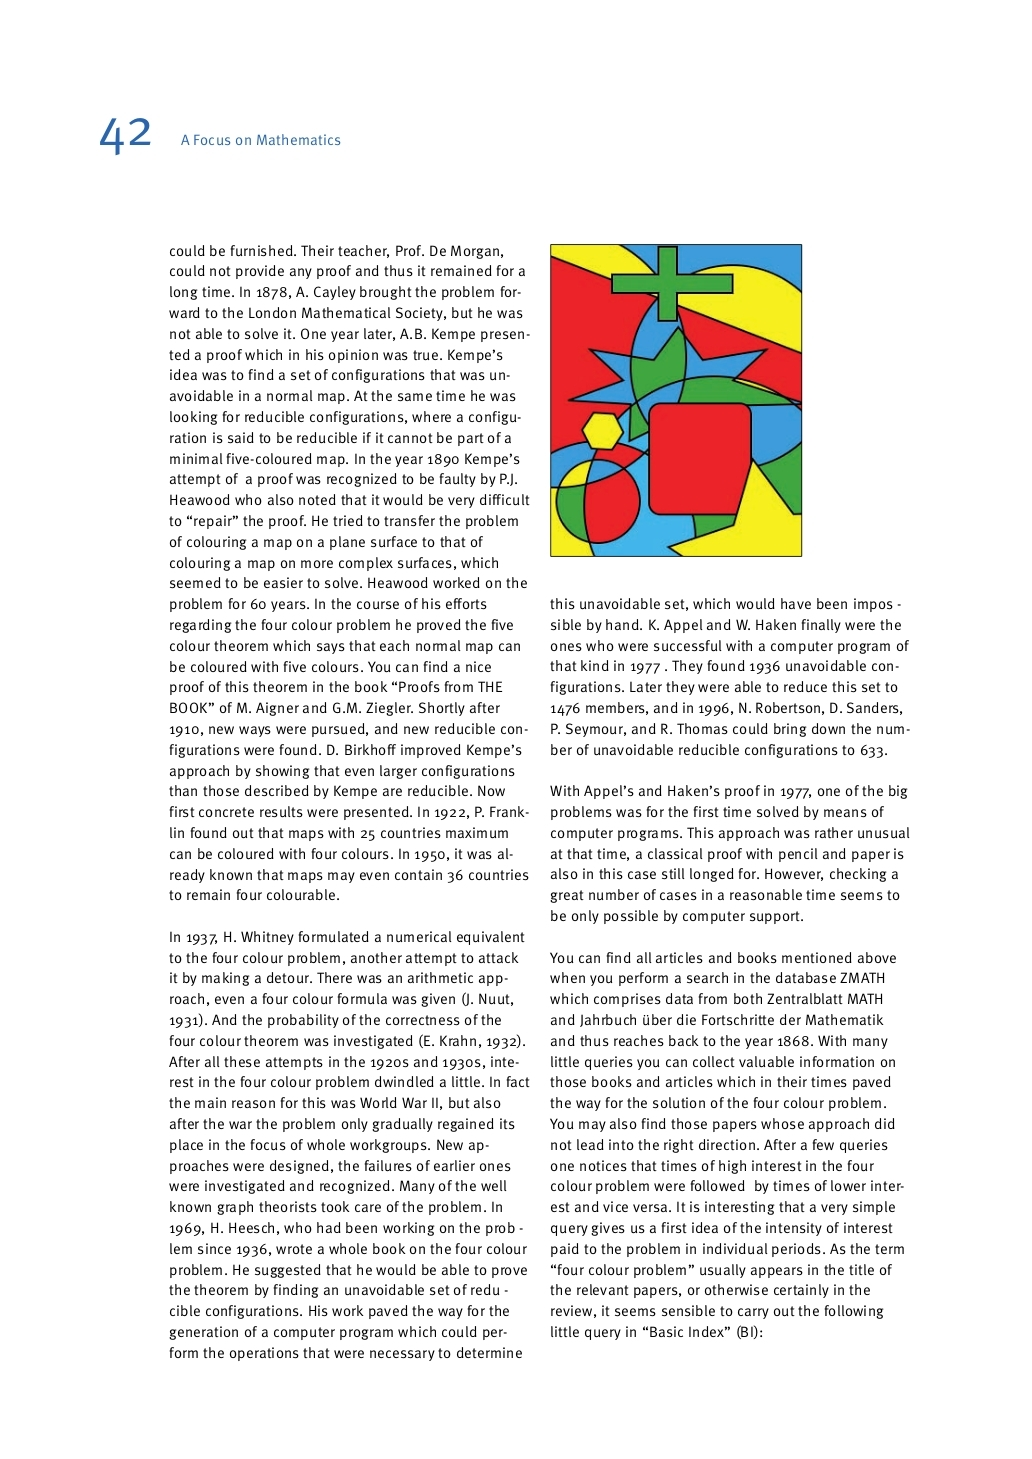figure: (550, 242, 802, 557)
